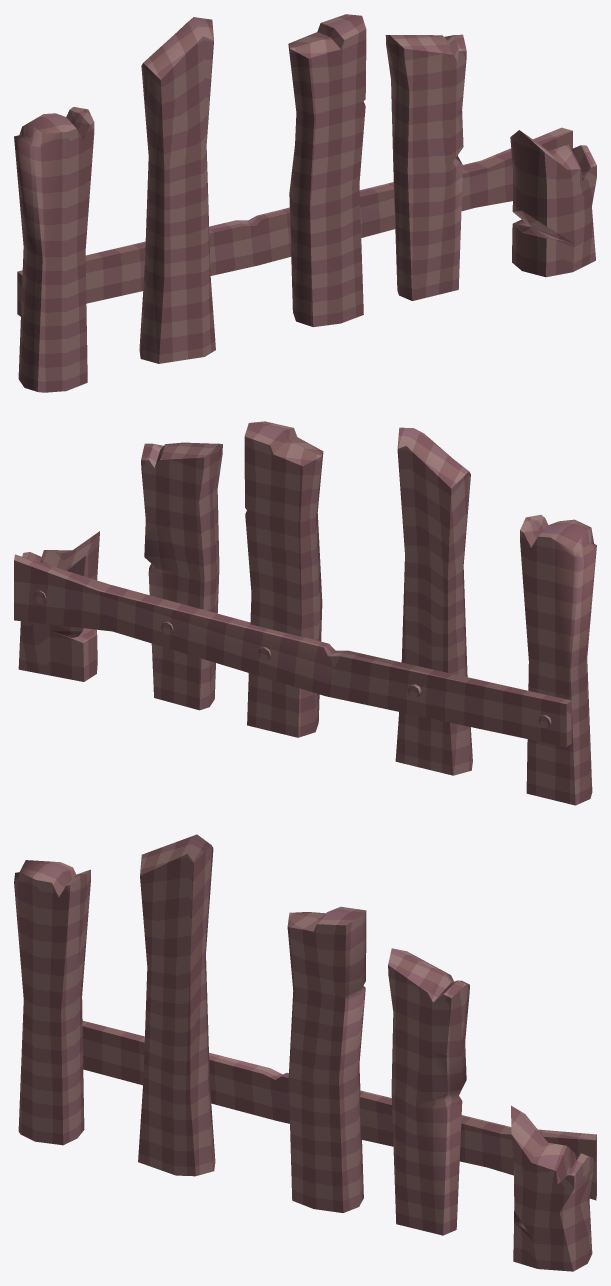
File: 307_Fence_MD.fbx
The picture shows the model from 3 angles, top to bottom: view 1: azimuth 30°, elevation 25°; view 2: azimuth 150°, elevation 25°; view 3: azimuth 330°, elevation 25°; orthographic projection.
Visible parts, largest first — view 1: Box001; view 2: Box001; view 3: Box001.
Part boxes in pixels (<box>): Box001: <box>14,14,596,392</box>; Box001: <box>14,421,596,805</box>; Box001: <box>14,834,596,1271</box>.
Bounding box in the file's own units: 92.65 × 51.03 × 11.53.
1 material, 1 textured.
